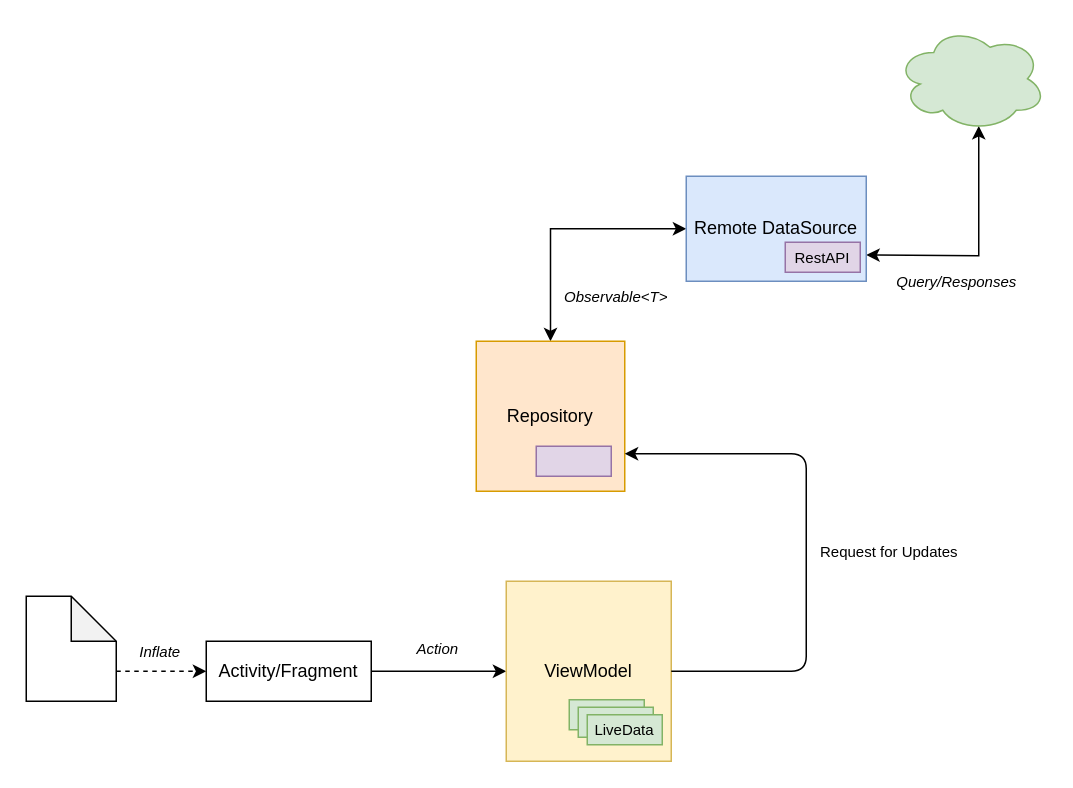
Image size: 1073x788. Some labels were removed from this diagram. The shapes that lost their labels are listed below. From the top down, each one's centre as x and y in pixels, then its label:
At [970,78]: "Web Services".
At [573,460]: "DataClass".
At [70,648]: "XML".
